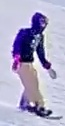snowboarder: (11, 12, 64, 121)
